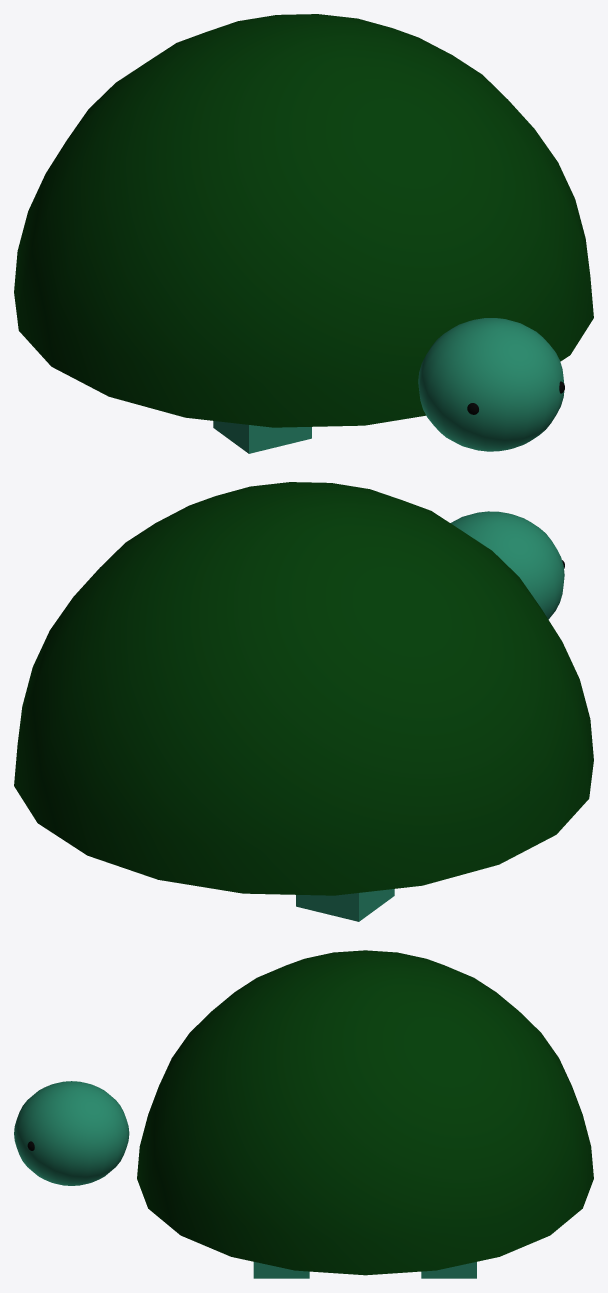
File: turtle.fbx
3 views of the same model, one above another, from view 1: azimuth 30°, elevation 25°; view 2: azimuth 150°, elevation 25°; view 3: azimuth 270°, elevation 25° (orthographic). The views are drawn at different scales.
Parts seen in each view (by area): view 1: turtle_body; view 2: turtle_body; view 3: turtle_body.
Part boxes in pixels (box(x1,y1,x2,y2)): turtle_body: box(14, 14, 593, 453); turtle_body: box(14, 482, 593, 921); turtle_body: box(14, 950, 593, 1278).
Size of the model in its own units: 2 by 1.25 by 2.54.
